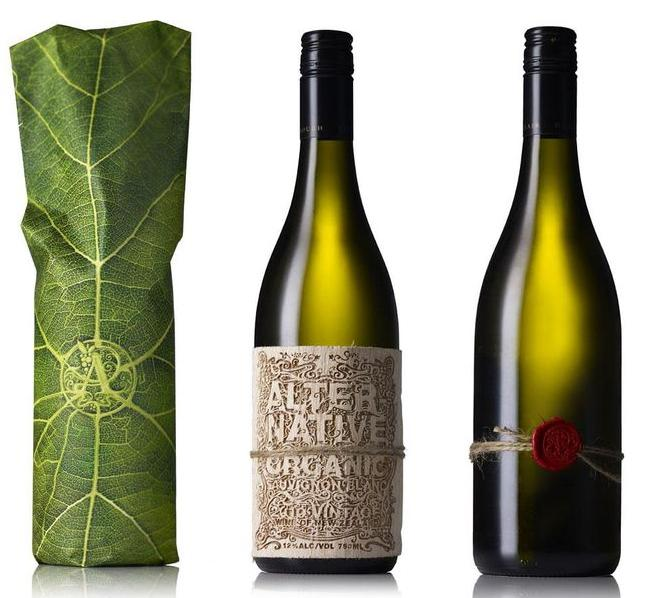wine bottle: (471, 28, 621, 578), (253, 30, 402, 576)
wine label: (252, 346, 401, 558), (526, 413, 584, 474)
